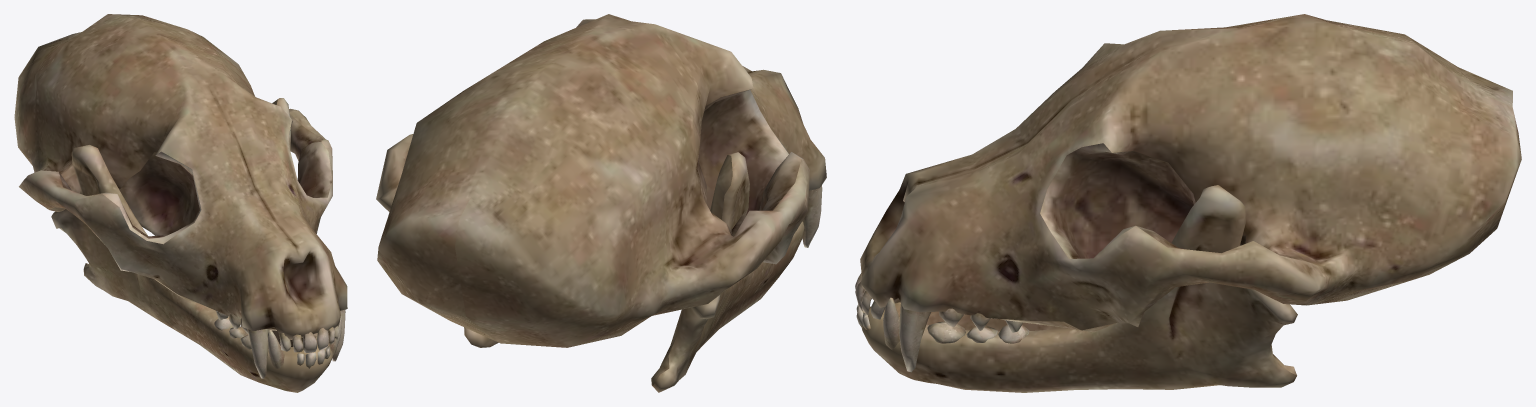
The model's file is skull_wolf.worldmodel.glb.
3 renders of one model, left to right at view 1: azimuth 30°, elevation 25°; view 2: azimuth 150°, elevation 25°; view 3: azimuth 270°, elevation 25°, orthographic. The views are drawn at different scales.
Parts seen in each view (by area): view 1: WolfSkull_LOD0; view 2: WolfSkull_LOD0; view 3: WolfSkull_LOD0.
Part boxes in pixels (bbox=[...]): WolfSkull_LOD0: bbox=[14, 14, 347, 392]; WolfSkull_LOD0: bbox=[376, 14, 826, 392]; WolfSkull_LOD0: bbox=[855, 14, 1521, 392].
Bounding box in the file's own units: 0.2123 × 0.191 × 0.3288.
1 material, 1 textured.
